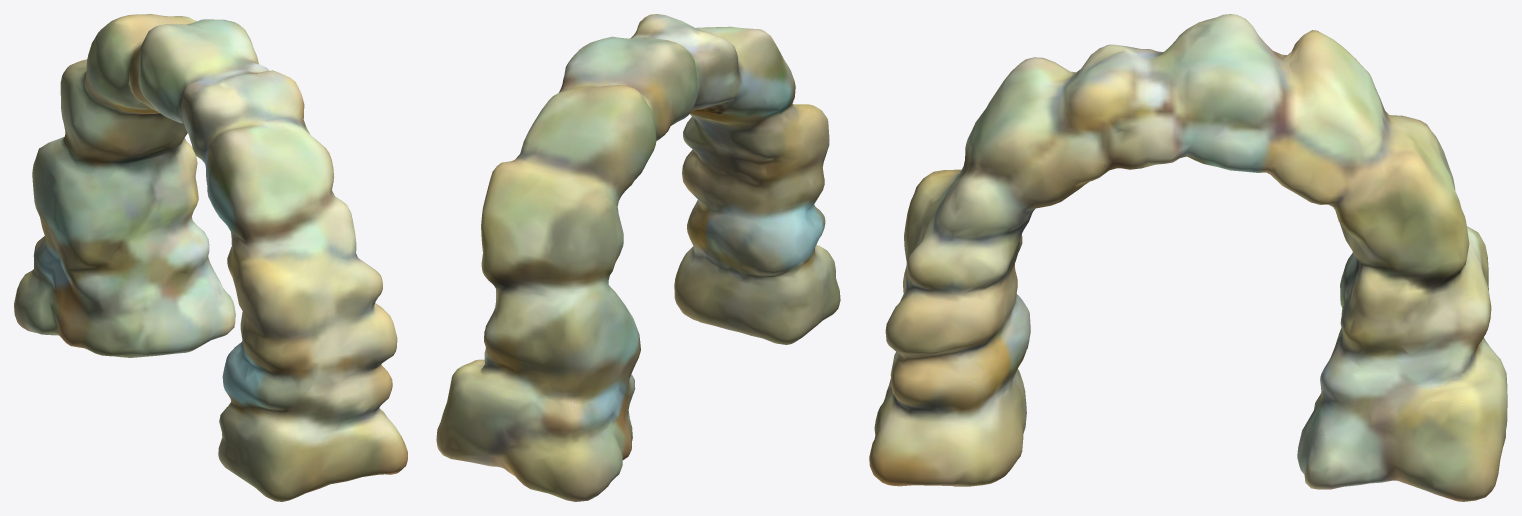
Rendered from MeshyArchModel.fbx.
3 views of the same model, side by side, from view 1: azimuth 30°, elevation 25°; view 2: azimuth 150°, elevation 25°; view 3: azimuth 270°, elevation 25° (orthographic). The views are drawn at different scales.
Visible parts, largest first — view 1: Mesh1; view 2: Mesh1; view 3: Mesh1.
Part boxes in pixels (x1,y1,x2,y2): Mesh1: [14, 14, 407, 501]; Mesh1: [436, 14, 840, 501]; Mesh1: [869, 14, 1507, 501].
Bounding box in the file's own units: 42.15 × 90.6 × 120.
Materials: 1 (1 with a texture image).
